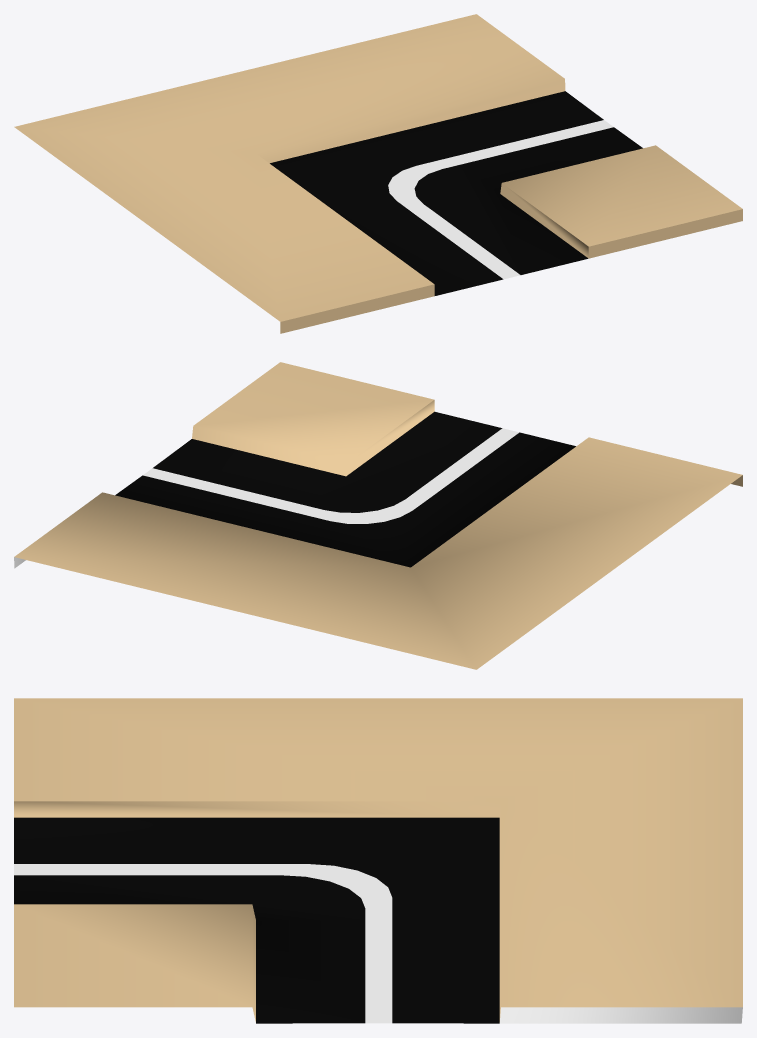
Rendered from passeio_conexao.fbx.
The picture shows the model from 3 angles, top to bottom: view 1: azimuth 30°, elevation 25°; view 2: azimuth 150°, elevation 25°; view 3: azimuth 270°, elevation 25°; orthographic projection. The views are drawn at different scales.
Visible parts, largest first — view 1: conexão; view 2: conexão; view 3: conexão.
Part boxes in pixels (left/top/right/bottom): conexão: left=14, top=14, right=742, bottom=333; conexão: left=14, top=362, right=742, bottom=669; conexão: left=14, top=698, right=742, bottom=1023.
Bounding box in the file's own units: 295 × 7.3 × 294.
